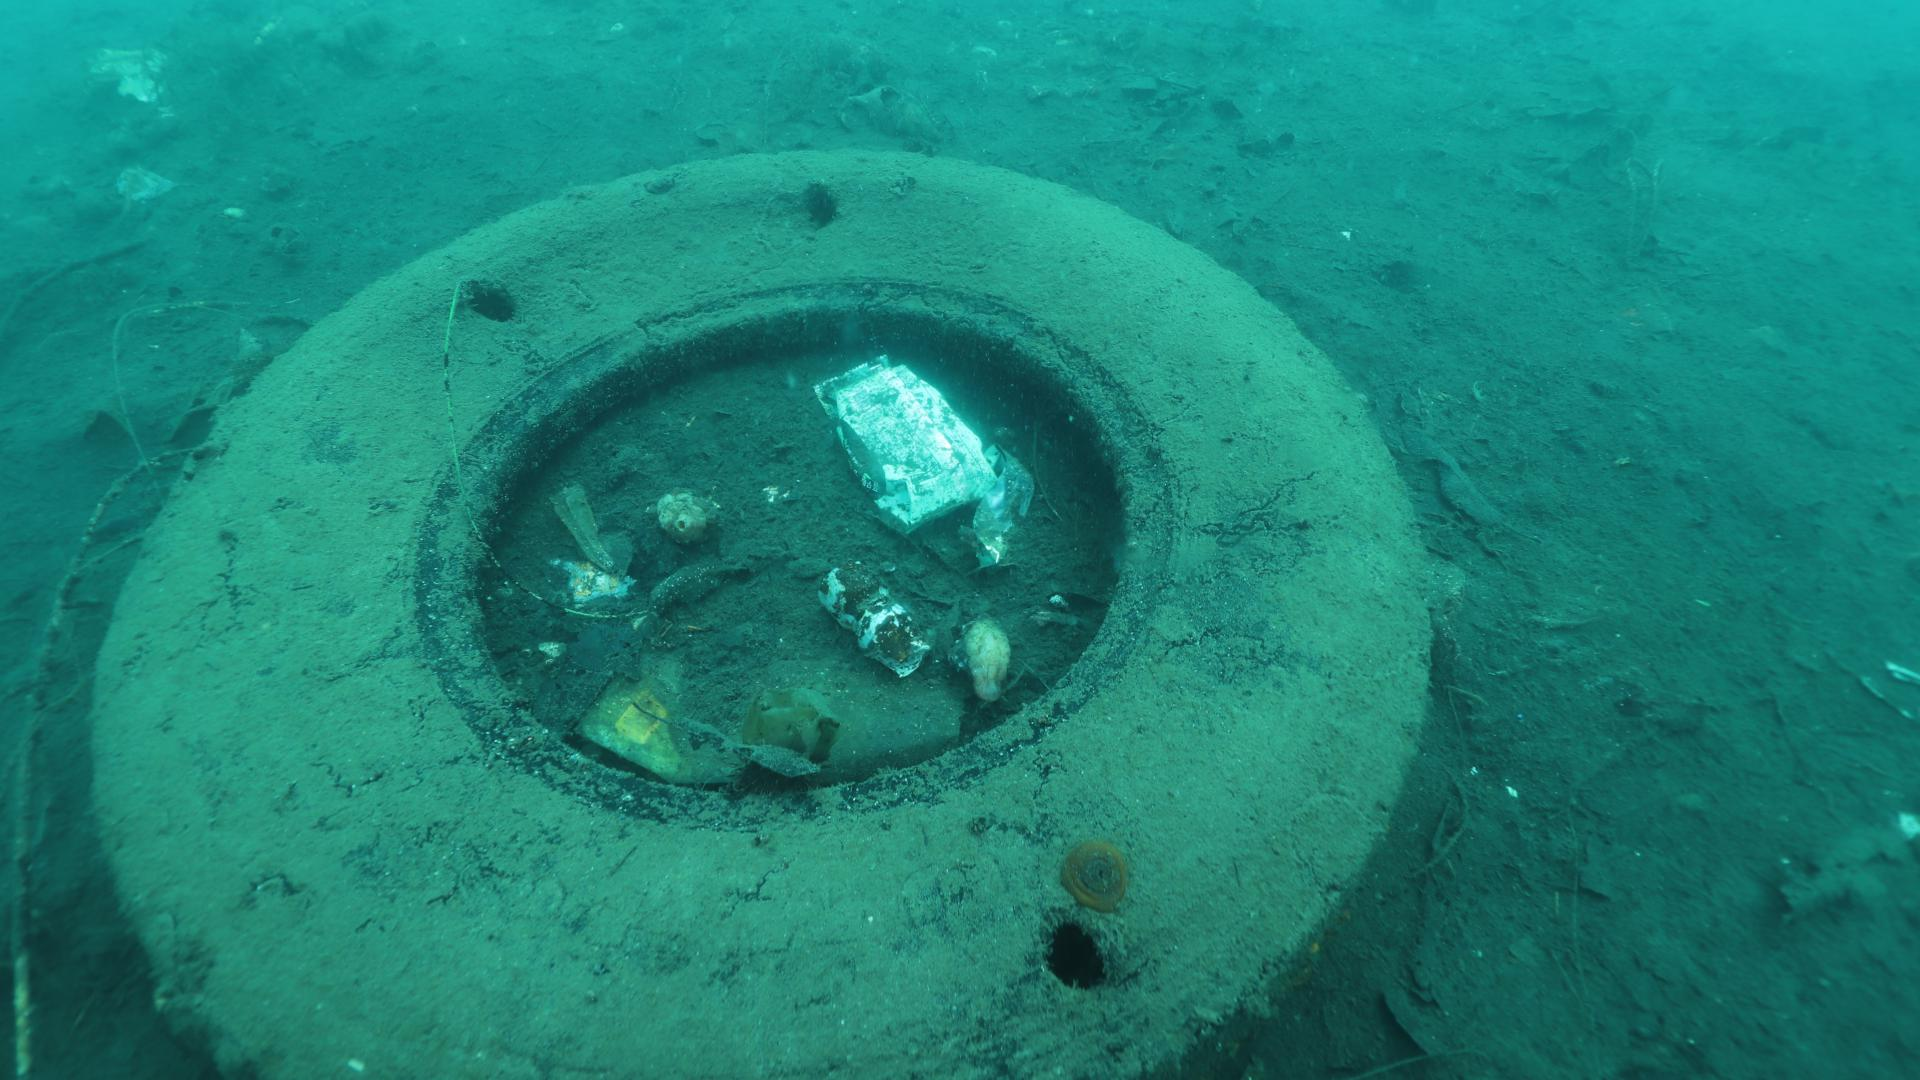tire: (86, 145, 1436, 1080)
